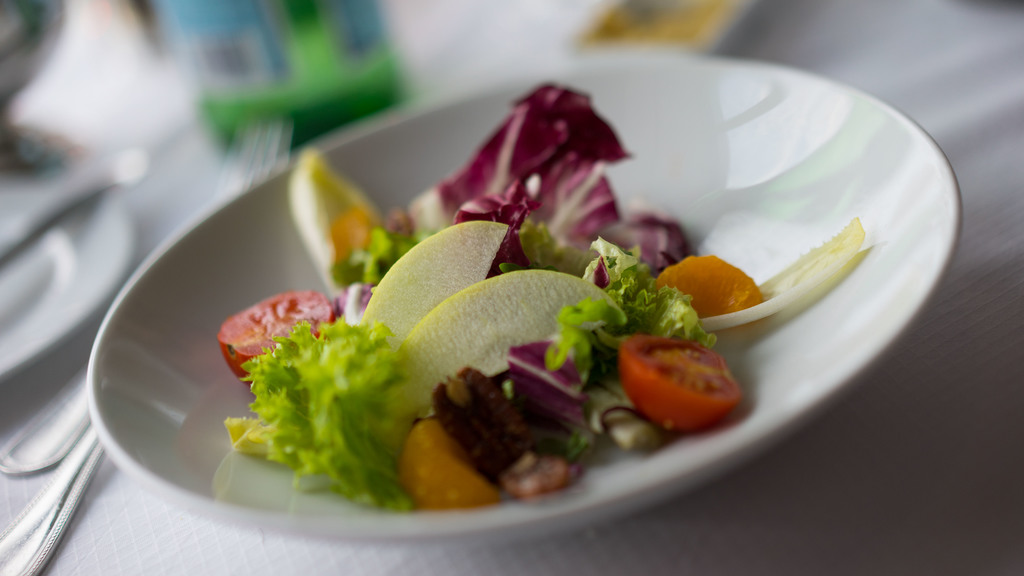Tomato: (215, 287, 338, 389), (613, 331, 741, 424)
